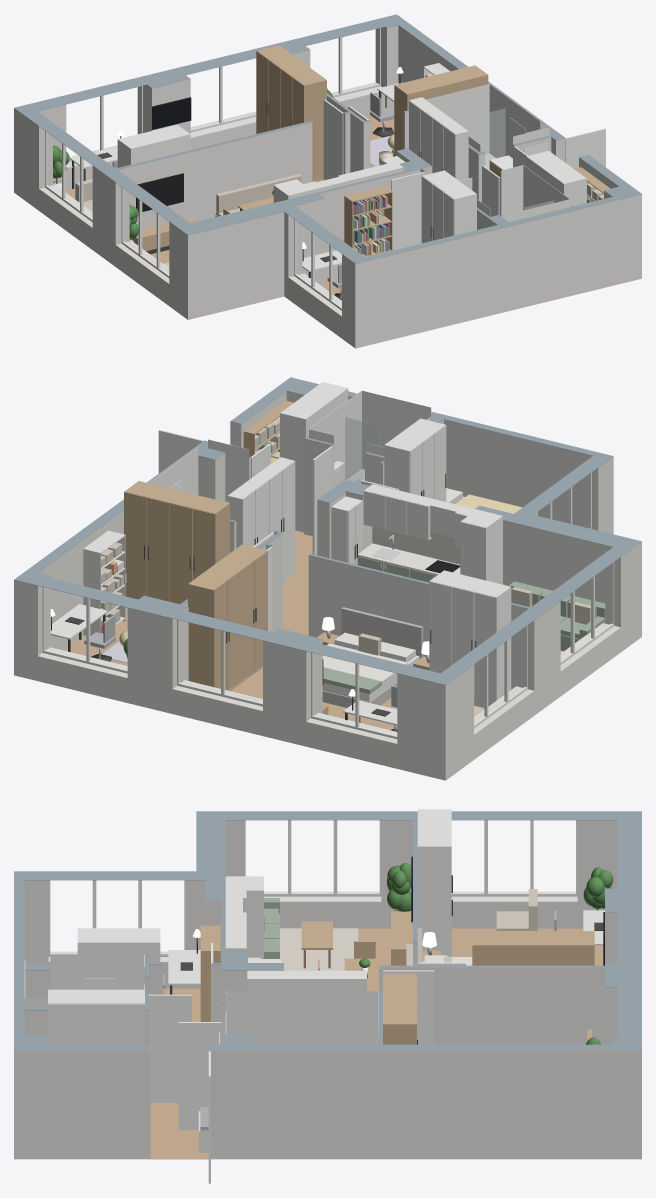
3 renders of one model, top to bottom at view 1: azimuth 30°, elevation 25°; view 2: azimuth 150°, elevation 25°; view 3: azimuth 270°, elevation 25°, orthographic. The views are drawn at different scales.
Parts seen in each view (by area): view 1: wall, white, wallcap, oak, tile_wall, white_gloss, fabric_sand, glass, black, screen, metal_dark, oak_floor (+4 smaller); view 2: wall, white, oak, wallcap, tile_wall, white_gloss, oak_floor, fabric_sand, linen, upholstery, fabric_green, backsplash (+6 smaller); view 3: wall, white, wallcap, tile_wall, oak, white_gloss, oak_floor, rug_sand, leaf, fabric_sand, fabric_green.
Part boxes in pixels (x1,y1,x2,y2): wall: [14, 25, 641, 348]; white: [45, 28, 586, 310]; wallcap: [14, 14, 641, 263]; oak: [131, 45, 609, 257]; tile_wall: [426, 84, 570, 221]; white_gloss: [323, 99, 605, 250]; fabric_sand: [75, 73, 603, 216]; glass: [476, 108, 553, 210]; black: [136, 97, 191, 212]; screen: [153, 98, 190, 129]; metal_dark: [72, 73, 444, 300]; oak_floor: [65, 111, 394, 294]; wall: [14, 388, 641, 780]; white: [42, 382, 614, 739]; oak: [124, 400, 447, 714]; wallcap: [14, 377, 641, 685]; tile_wall: [148, 390, 431, 502]; white_gloss: [158, 430, 399, 632]; oak_floor: [63, 530, 563, 729]; fabric_sand: [101, 416, 590, 716]; linen: [322, 488, 464, 701]; upholstery: [322, 607, 423, 707]; fabric_green: [323, 581, 605, 693]; backsplash: [372, 527, 460, 564]; wall: [14, 820, 641, 1159]; white: [48, 809, 604, 1152]; wallcap: [14, 811, 641, 1050]; tile_wall: [24, 954, 378, 1044]; oak: [200, 911, 594, 1044]; white_gloss: [149, 943, 465, 1183]; oak_floor: [150, 928, 603, 1159]; rug_sand: [280, 928, 358, 970]; leaf: [359, 863, 613, 1044]; fabric_sand: [406, 889, 537, 965]; fabric_green: [264, 898, 279, 958].
Size of the model in its own units: 10.98 by 2.5 by 11.03.
